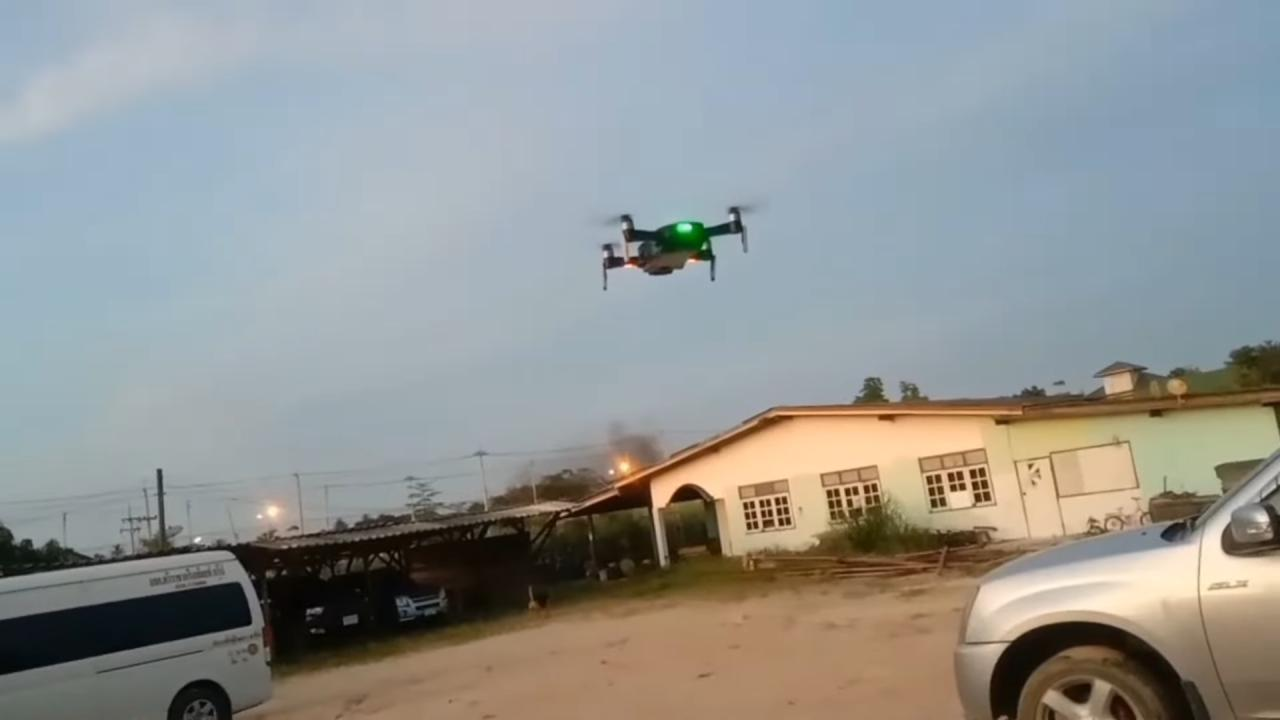Drone: (586, 192, 758, 299)
